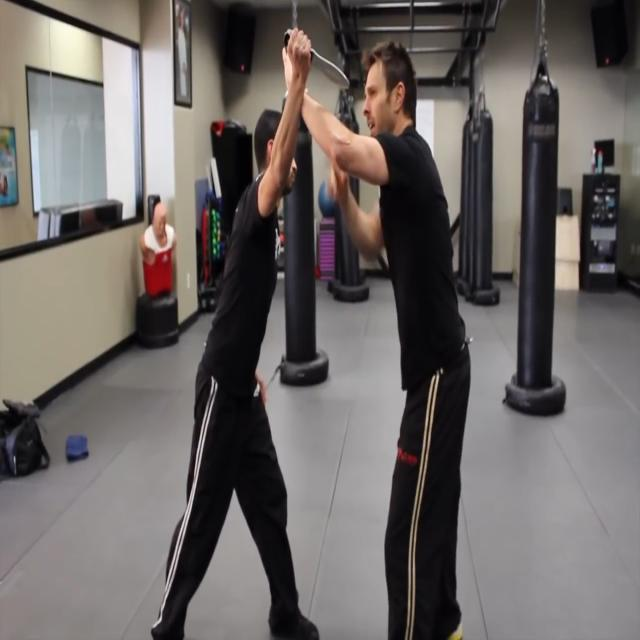knife: (284, 29, 353, 90)
